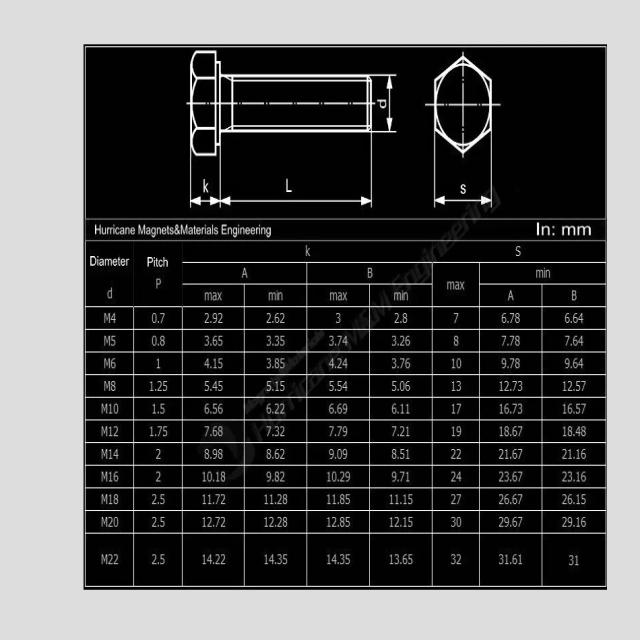marking_line: (223, 195, 371, 206), (435, 196, 491, 206), (385, 75, 395, 130), (191, 195, 219, 207)
numeric: (384, 550, 416, 571), (202, 550, 230, 571), (495, 548, 525, 567), (263, 549, 291, 568), (562, 468, 591, 486), (263, 471, 293, 488), (264, 309, 292, 327), (264, 354, 290, 373), (202, 468, 231, 485), (199, 492, 231, 507), (387, 513, 417, 529), (200, 516, 228, 533), (327, 515, 356, 531), (561, 492, 590, 508), (146, 549, 169, 569), (499, 401, 526, 418), (389, 332, 414, 350), (200, 309, 228, 325), (498, 513, 524, 530), (263, 447, 292, 462), (263, 493, 294, 507), (323, 471, 354, 485), (149, 378, 173, 396), (561, 514, 588, 530), (262, 515, 290, 530), (263, 377, 289, 393), (328, 448, 354, 464), (498, 378, 524, 394), (498, 469, 524, 485), (500, 310, 523, 328), (563, 546, 581, 569), (326, 493, 355, 507), (201, 448, 228, 463), (499, 333, 524, 349), (498, 491, 523, 507), (562, 424, 587, 440), (388, 492, 416, 506), (390, 400, 413, 417), (561, 446, 590, 459), (201, 333, 226, 348), (328, 334, 353, 349), (327, 378, 352, 393), (388, 468, 413, 483), (562, 401, 587, 416), (564, 356, 587, 372), (199, 402, 225, 416), (497, 425, 525, 438), (201, 378, 225, 393), (327, 423, 351, 438), (562, 378, 586, 393), (391, 378, 413, 394), (565, 310, 587, 326), (264, 402, 287, 417), (327, 400, 350, 415), (390, 356, 413, 371), (393, 309, 412, 327), (325, 554, 356, 565), (392, 425, 412, 442), (148, 423, 169, 439), (328, 355, 349, 371), (498, 356, 522, 370), (203, 424, 225, 439), (265, 331, 287, 346), (563, 334, 585, 349), (149, 309, 168, 326), (149, 334, 170, 349), (204, 355, 225, 370), (265, 424, 286, 439), (391, 447, 412, 462), (449, 355, 467, 372), (445, 550, 465, 565), (499, 448, 524, 460), (283, 172, 296, 195), (149, 403, 168, 418), (332, 307, 346, 327), (150, 492, 169, 505), (448, 423, 463, 439), (447, 514, 464, 528), (450, 376, 463, 394), (450, 492, 464, 508), (155, 445, 166, 465), (150, 515, 168, 527), (451, 446, 464, 462), (451, 309, 464, 325), (153, 471, 165, 487), (450, 401, 462, 417), (451, 332, 462, 349), (153, 356, 166, 369), (449, 471, 462, 484)
